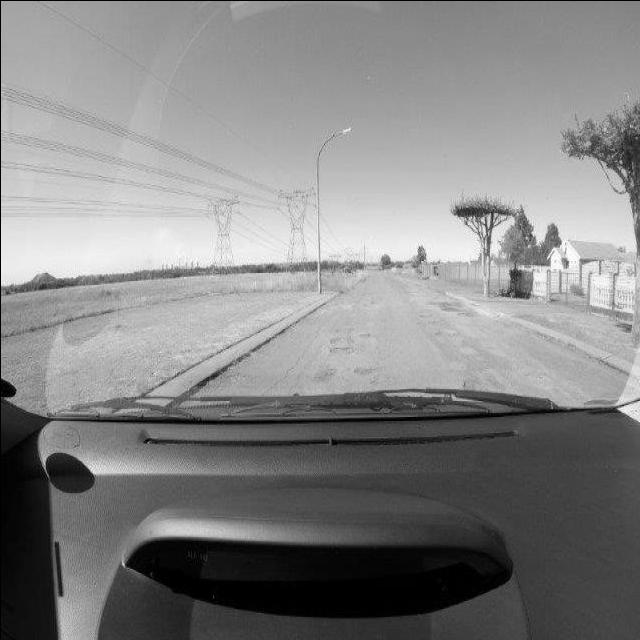lubang: (426, 288, 478, 320), (515, 365, 554, 387), (459, 364, 488, 388), (326, 332, 354, 356), (351, 363, 377, 373), (356, 326, 368, 340)
